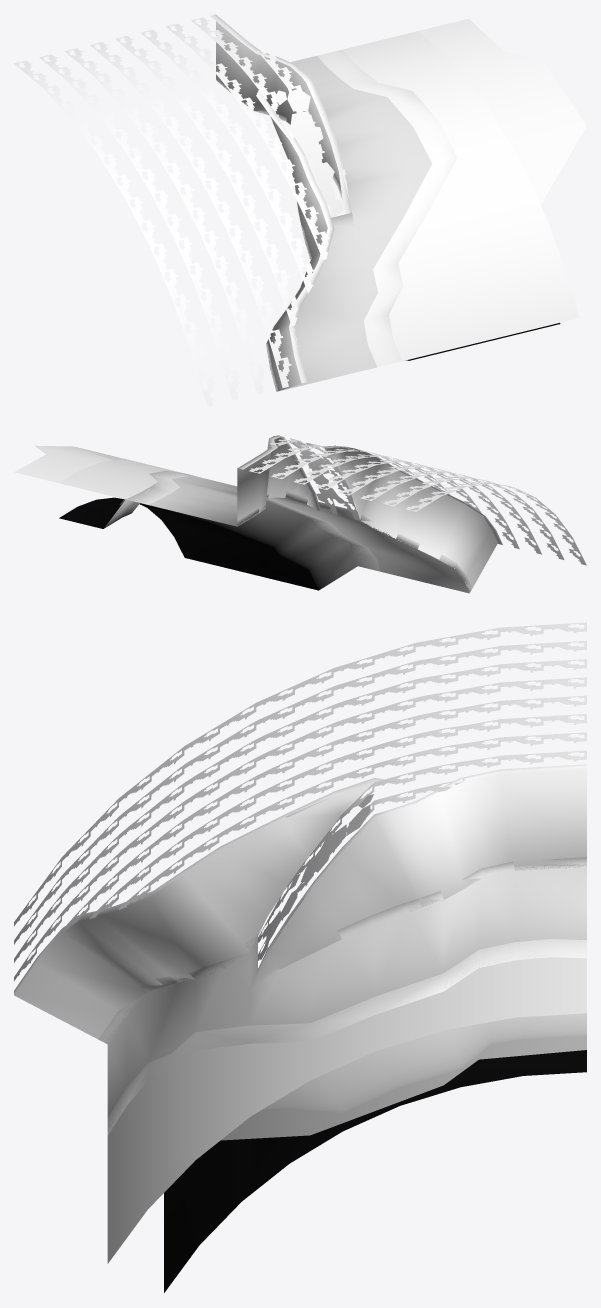
The model's file is grd_Mse_e_S_1.dae.
3 renders of one model, top to bottom at view 1: azimuth 30°, elevation 25°; view 2: azimuth 150°, elevation 25°; view 3: azimuth 270°, elevation 25°, orthographic. The views are drawn at different scales.
Visible parts, largest first — view 1: ocean_4_0, grass_3_0, wave_6_0, beach_0_0, cliff_2_0, beach_1_0, slope_5_0; view 2: beach_1_0, cliff_2_0, beach_0_0, grass_3_0, wave_6_0, ocean_4_0, slope_5_0; view 3: cliff_2_0, beach_1_0, beach_0_0, ocean_4_0, grass_3_0, wave_6_0, slope_5_0.
Boxes of the visible parts, x1,y1,x2,y2 form: ocean_4_0: [342, 31, 579, 360]; grass_3_0: [14, 17, 348, 406]; wave_6_0: [339, 19, 586, 366]; beach_0_0: [216, 56, 432, 391]; cliff_2_0: [210, 14, 351, 390]; beach_1_0: [317, 49, 560, 367]; slope_5_0: [274, 88, 343, 213]; beach_1_0: [59, 470, 379, 590]; cliff_2_0: [237, 435, 502, 592]; beach_0_0: [148, 476, 471, 593]; grass_3_0: [249, 438, 586, 565]; wave_6_0: [14, 445, 377, 569]; ocean_4_0: [59, 459, 185, 499]; slope_5_0: [289, 441, 344, 503]; cliff_2_0: [14, 764, 586, 1043]; beach_1_0: [107, 939, 586, 1292]; beach_0_0: [98, 857, 586, 1117]; ocean_4_0: [107, 957, 586, 1263]; grass_3_0: [14, 622, 586, 980]; wave_6_0: [107, 942, 586, 1226]; slope_5_0: [259, 794, 373, 959].
Bounding box in the file's own units: 608 × 308 × 423.
7 materials, 1 textured.
